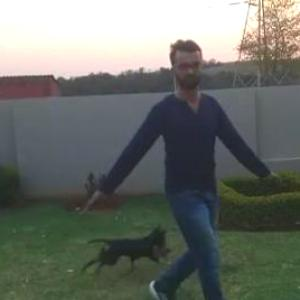land: (92, 58, 273, 299)
